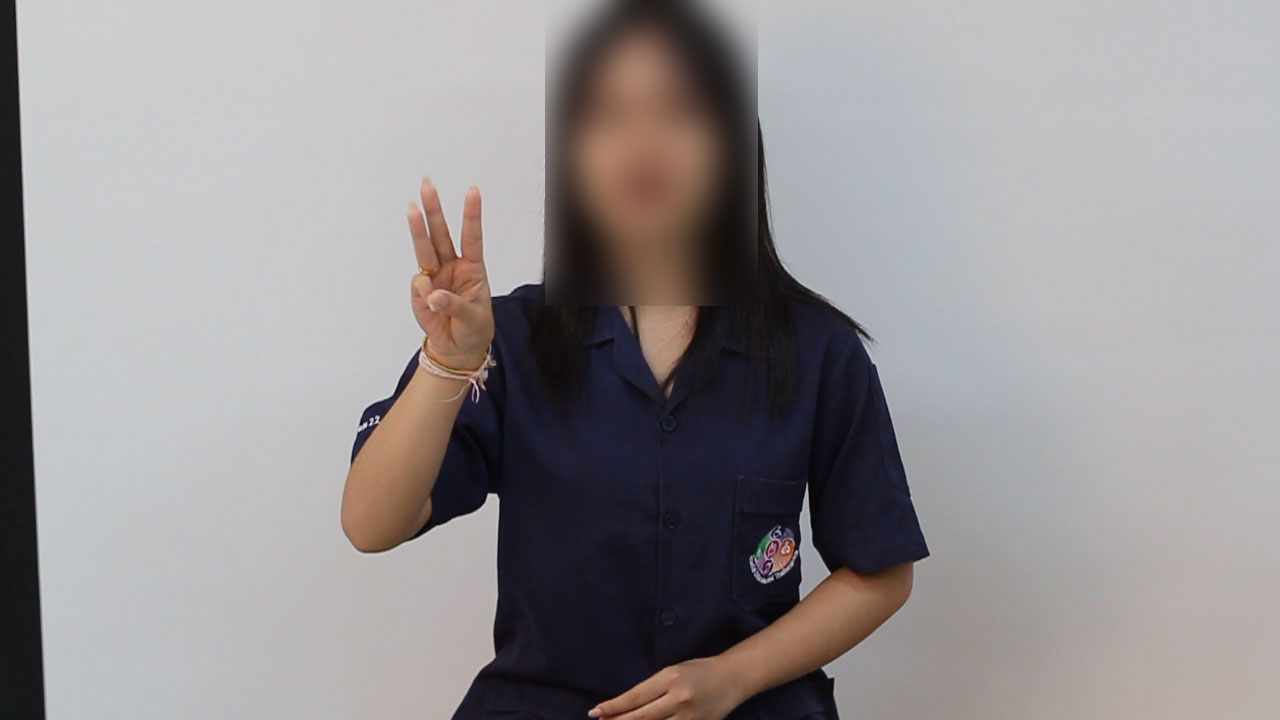wor: (400, 168, 502, 374)
